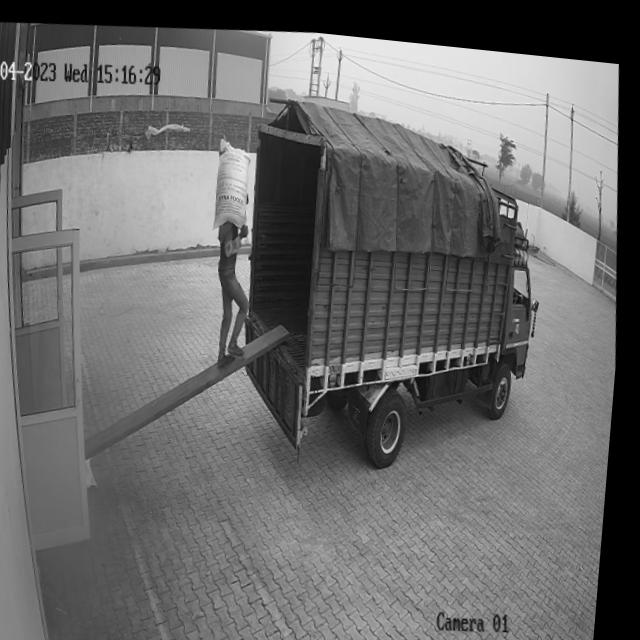sack: (209, 131, 259, 228)
